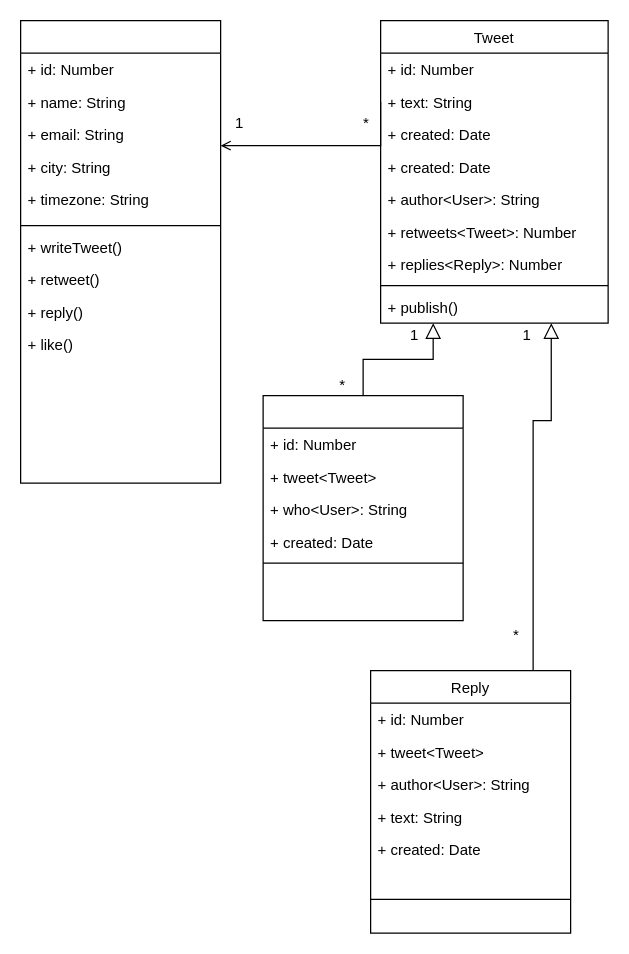
Image size: 629x954. Some labels were removed from this diagram. Each missing label, with the box of its shape:
Like: (262, 394, 463, 621)
User: (19, 19, 221, 483)
